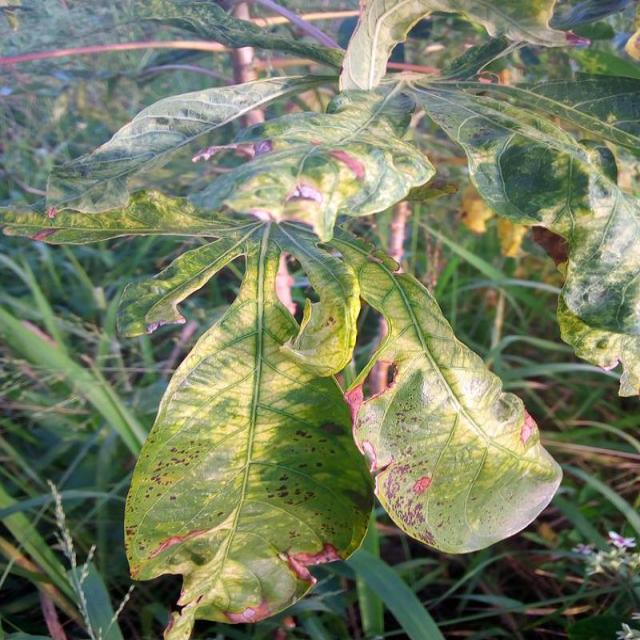cassava leaf: (122, 231, 375, 638), (338, 243, 564, 556)
